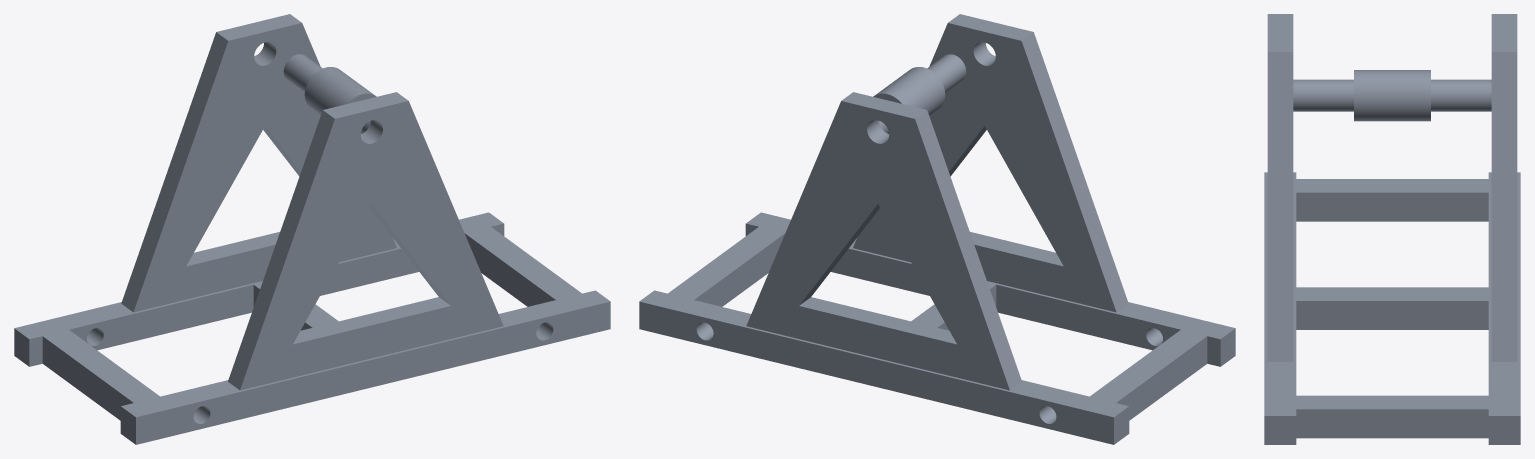
File: step-6-preview-1.glb
3 views of the same model, side by side, from view 1: azimuth 30°, elevation 25°; view 2: azimuth 150°, elevation 25°; view 3: azimuth 270°, elevation 25° (orthographic). The views are drawn at different scales.
Parts seen in each view (by area): view 1: preview_34, preview_6, preview_25, preview_7, preview_36, preview_15, preview_8, preview_22, preview_41, preview_42, preview_0, preview_11 (+5 smaller); view 2: preview_43, preview_5, preview_31, preview_7, preview_38, preview_8, preview_15, preview_22, preview_39, preview_42, preview_0, preview_18 (+5 smaller); view 3: preview_7, preview_9, preview_16, preview_28, preview_35, preview_40, preview_0, preview_3, preview_4, preview_10, preview_17, preview_26 (+1 smaller).
Part boxes in pixels (bbox=[...]): preview_34: bbox=[240, 101, 503, 390]; preview_6: bbox=[133, 23, 396, 312]; preview_25: bbox=[136, 301, 610, 444]; preview_7: bbox=[14, 212, 610, 417]; preview_36: bbox=[69, 284, 253, 350]; preview_15: bbox=[121, 32, 228, 312]; preview_8: bbox=[228, 110, 334, 389]; preview_22: bbox=[42, 336, 133, 420]; preview_41: bbox=[320, 248, 418, 295]; preview_42: bbox=[464, 233, 555, 306]; preview_0: bbox=[304, 67, 373, 115]; preview_11: bbox=[293, 297, 450, 344]; preview_43: bbox=[746, 101, 1009, 390]; preview_5: bbox=[853, 23, 1116, 312]; preview_31: bbox=[639, 301, 1113, 444]; preview_7: bbox=[639, 212, 1235, 417]; preview_38: bbox=[996, 284, 1180, 350]; preview_8: bbox=[1021, 32, 1128, 312]; preview_15: bbox=[915, 110, 1021, 389]; preview_22: bbox=[1116, 336, 1207, 420]; preview_39: bbox=[831, 248, 929, 295]; preview_42: bbox=[694, 233, 785, 306]; preview_0: bbox=[876, 67, 945, 115]; preview_18: bbox=[799, 297, 956, 344]; preview_7: bbox=[1264, 172, 1520, 415]; preview_9: bbox=[1267, 52, 1293, 361]; preview_16: bbox=[1491, 52, 1517, 361]; preview_28: bbox=[1296, 409, 1488, 438]; preview_35: bbox=[1296, 192, 1488, 221]; preview_40: bbox=[1296, 301, 1488, 329]; preview_0: bbox=[1354, 70, 1430, 121]; preview_3: bbox=[1293, 79, 1353, 111]; preview_4: bbox=[1431, 79, 1491, 111]; preview_10: bbox=[1267, 14, 1293, 51]; preview_17: bbox=[1491, 14, 1517, 51]; preview_26: bbox=[1264, 416, 1296, 444].
Bounding box in the file's own units: 0.18 × 0.1 × 0.08.
